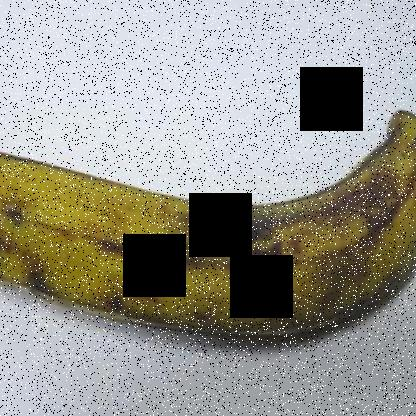overripe: (0, 79, 415, 374)
